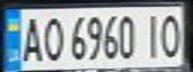0: (118, 11, 139, 61)
6: (66, 12, 87, 62), (103, 11, 121, 61)
9: (84, 11, 106, 61)
A: (18, 12, 45, 63)
I: (139, 10, 166, 60)
O: (157, 10, 187, 58), (39, 12, 66, 63)
